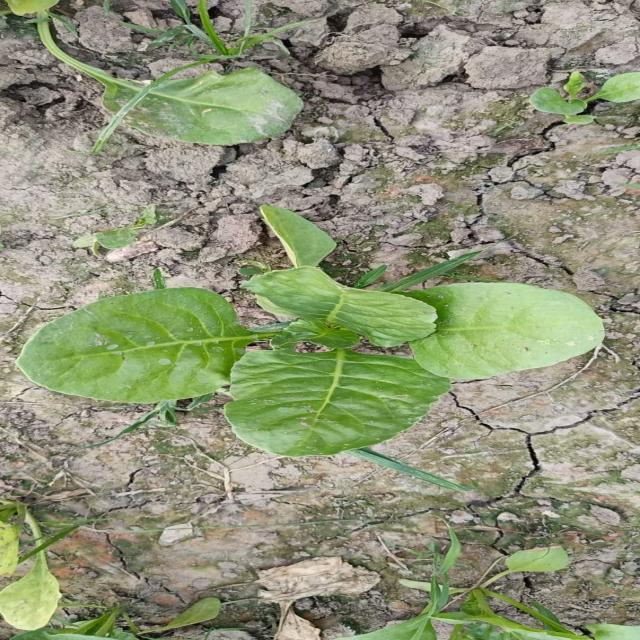plant: (15, 206, 603, 490), (5, 0, 301, 145)
